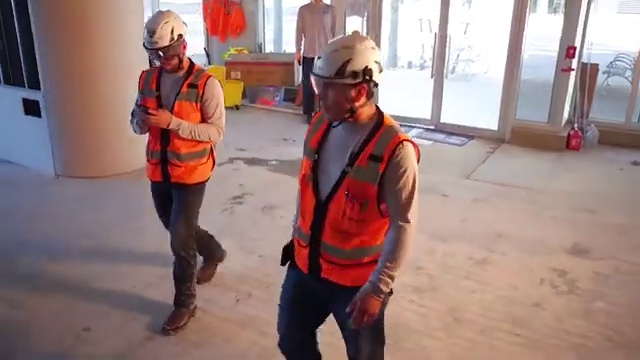helmet: (305, 24, 400, 84), (141, 5, 192, 46)
jacket: (293, 108, 416, 295), (131, 65, 235, 184)
